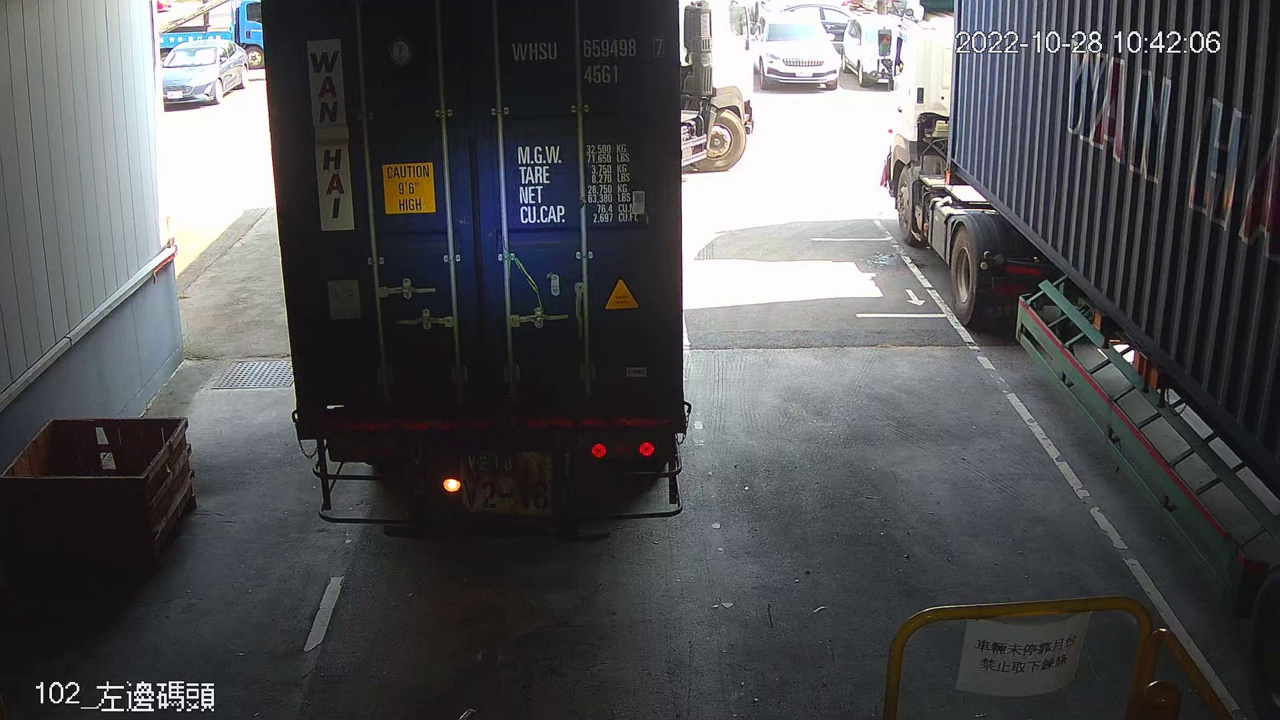container: (506, 30, 672, 90)
